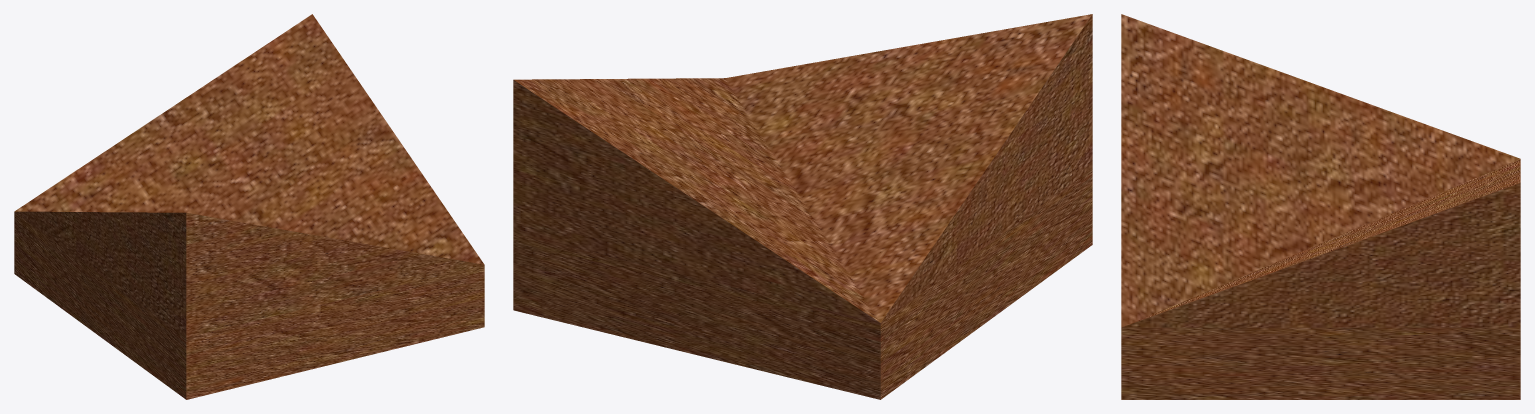
Rendered from Map0202.fbx.
3 renders of one model, left to right at view 1: azimuth 30°, elevation 25°; view 2: azimuth 150°, elevation 25°; view 3: azimuth 270°, elevation 25°, orthographic. The views are drawn at different scales.
Visible parts, largest first — view 1: Map0202, Map0000; view 2: Map0202, Map0000; view 3: Map0202, Map0000.
Part boxes in pixels (x1,y1,x2,y2): Map0202: (14,14,484,337); Map0000: (14,212,484,399); Map0202: (513,14,1092,322); Map0000: (513,168,1092,399); Map0202: (1121,14,1520,327); Map0000: (1121,327,1520,399).
Bounding box in the file's own units: 200 × 120 × 200.
2 materials, 2 textured.
